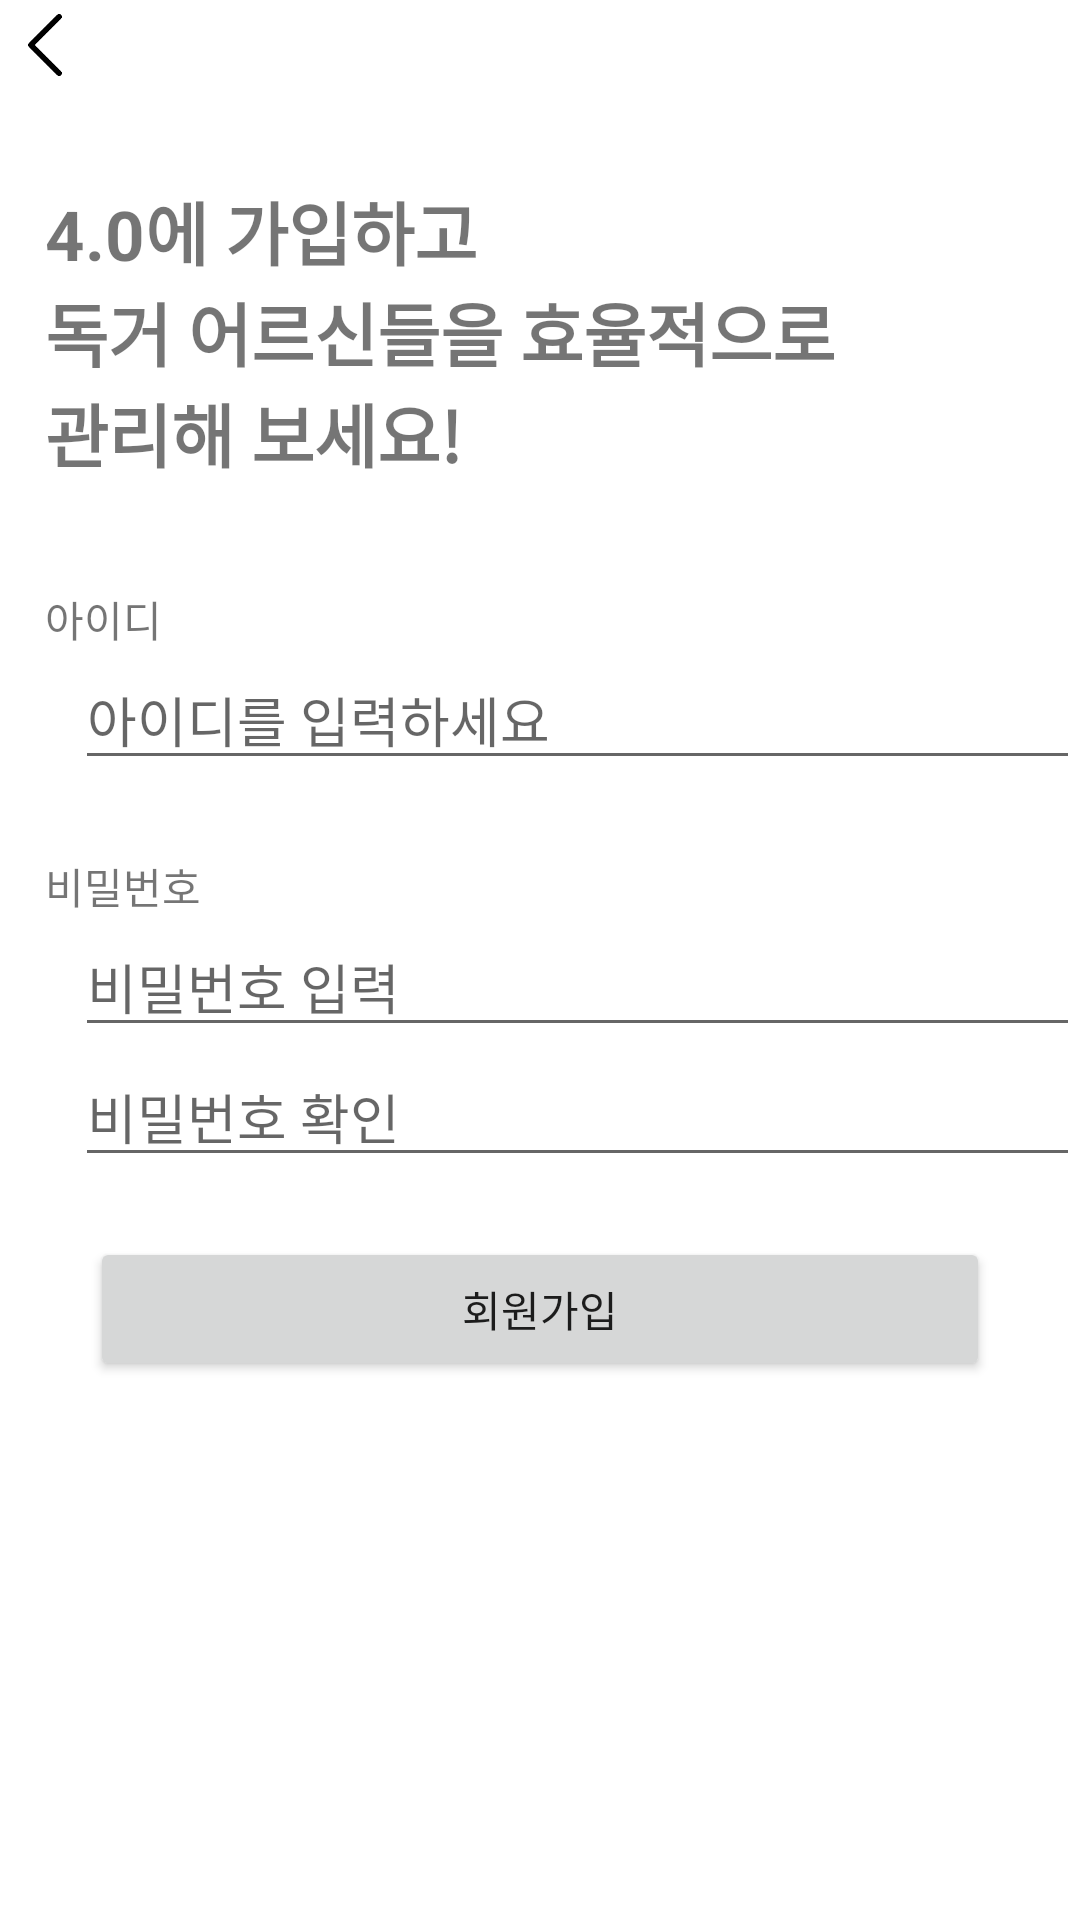

Icons on this 1080×1920 Android screen, each with the point to tap as (x=x, y=y):
backbutton: (x=45, y=45)
